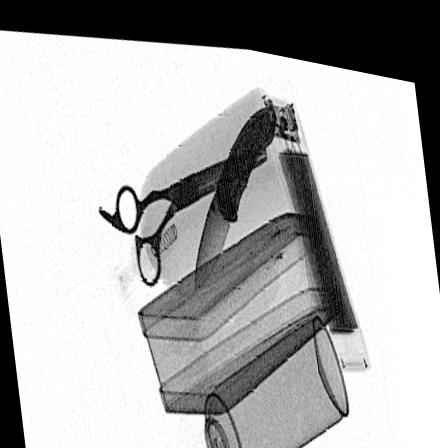Knife: (194, 89, 277, 277)
Powerbank: (263, 88, 374, 356)
Scissors: (95, 127, 269, 281)
Sprayer: (193, 298, 349, 448)
